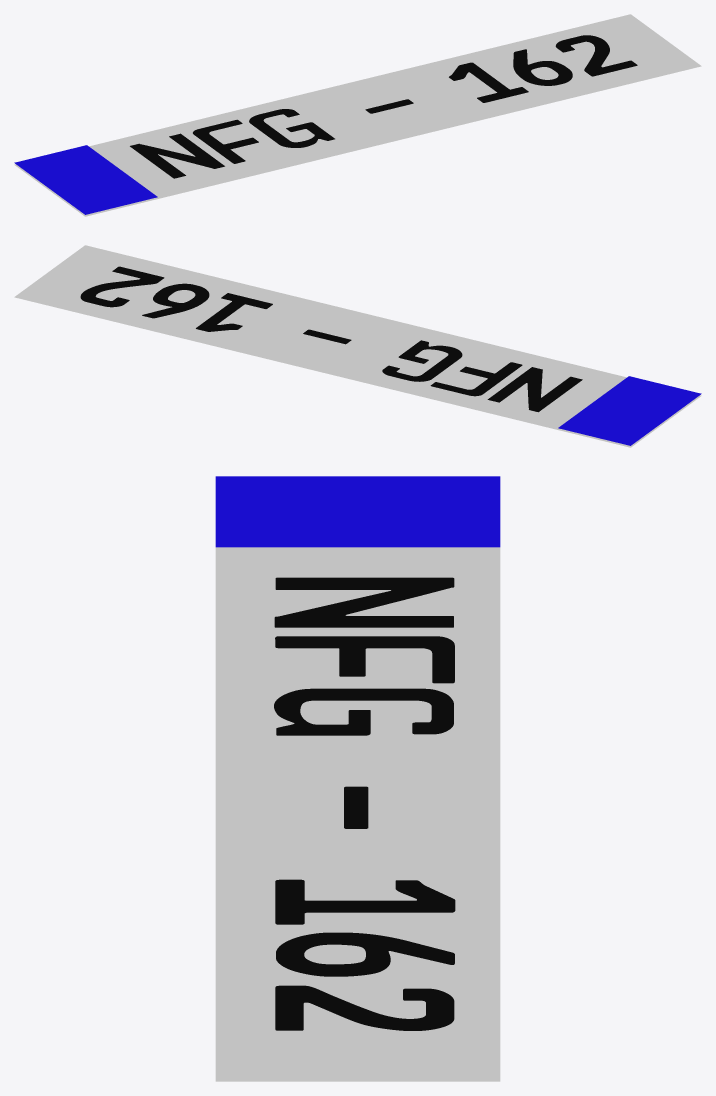
File: nfg162.fbx
3 views of the same model, one above another, from view 1: azimuth 30°, elevation 25°; view 2: azimuth 150°, elevation 25°; view 3: azimuth 270°, elevation 25° (orthographic). The views are drawn at different scales.
Parts seen in each view (by area): view 1: Plane, Text, Plane.001; view 2: Plane, Text, Plane.001; view 3: Plane, Text, Plane.001.
Part boxes in pixels (bbox=[...]): Plane: bbox=[14, 14, 701, 216]; Text: bbox=[130, 35, 637, 178]; Plane.001: bbox=[14, 145, 157, 214]; Plane: bbox=[14, 245, 701, 447]; Text: bbox=[80, 266, 582, 412]; Plane.001: bbox=[558, 376, 701, 445]; Plane: bbox=[215, 547, 500, 1081]; Text: bbox=[274, 577, 455, 1030]; Plane.001: bbox=[215, 476, 500, 547].
Size of the model in its own units: 110000 by 311 by 22000.
